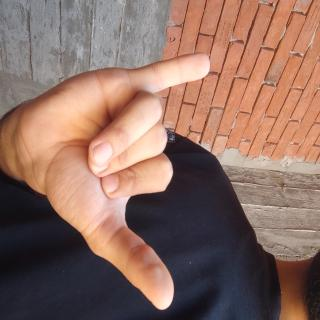YA: (34, 138, 236, 320)
